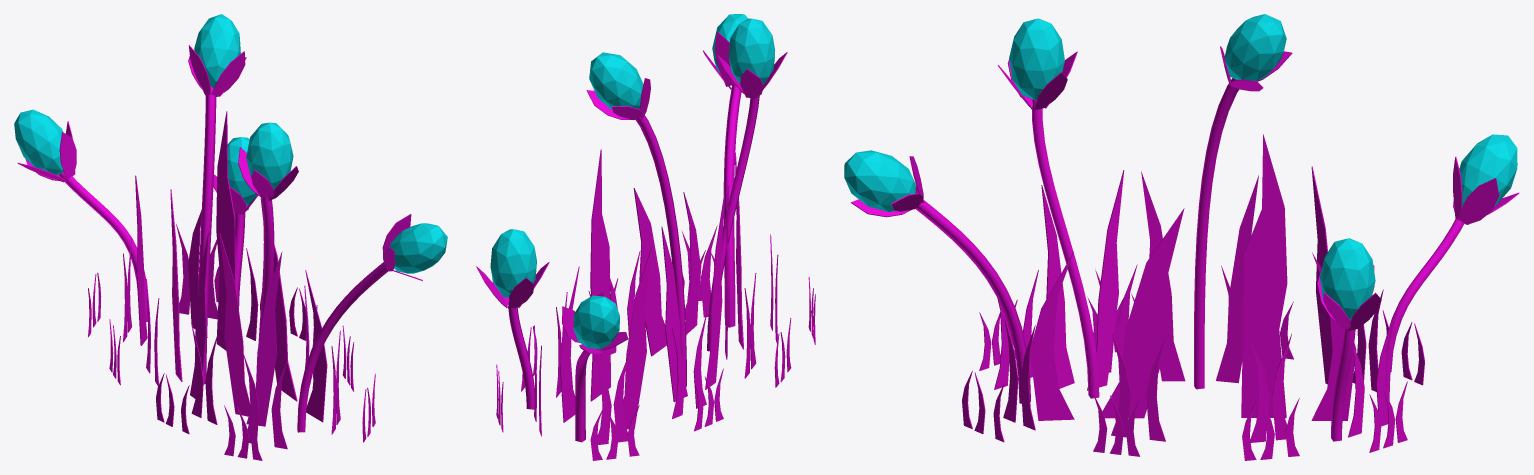
File: follaje0.fbx
The picture shows the model from 3 angles, left to right: view 1: azimuth 30°, elevation 25°; view 2: azimuth 150°, elevation 25°; view 3: azimuth 270°, elevation 25°; orthographic projection. The views are drawn at different scales.
Parts seen in each view (by area): view 1: Plano, Plano.005, Esfera geodésica.003, Curva Bezier.002, Plano.004, Esfera geodésica.001, Esfera geodésica.004, Esfera geodésica.002, Curva Bezier, Plano.001, Curva Bezier.003, Plano.003 (+17 smaller); view 2: Plano, Curva Bezier.002, Plano.008, Esfera geodésica.005, Esfera geodésica.002, Plano.001, Esfera geodésica.001, Curva Bezier, Esfera geodésica.003, Curva Bezier.001, Plano.007, Plano.006 (+17 smaller); view 3: Plano, Plano.001, Curva Bezier.002, Esfera geodésica.001, Curva Bezier.001, Plano.003, Esfera geodésica.005, Esfera geodésica.004, Esfera geodésica.002, Plano.005, Plano.007, Esfera geodésica.003 (+17 smaller).
Part boxes in pixels (x1,y1,x2,y2): Plano: (216,111,235,350); Plano.005: (219,233,250,416); Esfera geodésica.003: (14,109,63,174); Curva Bezier.002: (198,86,216,384); Plano.004: (246,251,282,426); Esfera geodésica.001: (246,122,293,190); Esfera geodésica.004: (389,223,447,273); Esfera geodésica.002: (194,14,240,88); Curva Bezier: (297,262,388,432); Plano.001: (260,198,297,401); Curva Bezier.003: (58,172,147,322); Plano.003: (305,270,327,422); Plano: (590,149,610,401); Curva Bezier.002: (635,108,686,386); Plano.008: (623,246,652,429); Esfera geodésica.005: (490,229,536,297); Esfera geodésica.002: (589,52,643,110); Plano.001: (633,188,666,356); Esfera geodésica.001: (729,18,774,84); Curva Bezier: (723,84,741,327); Esfera geodésica.003: (573,295,619,349); Curva Bezier.001: (707,96,759,351); Plano.007: (661,226,687,402); Plano.006: (705,195,724,389); Plano: (1241,134,1287,417); Plano.001: (1102,208,1184,418); Curva Bezier.002: (1194,78,1239,389); Esfera geodésica.001: (1009,18,1064,100); Curva Bezier.001: (1032,99,1099,398); Plano.003: (1030,251,1074,420); Esfera geodésica.005: (1320,238,1375,319); Esfera geodésica.004: (844,150,915,211); Esfera geodésica.002: (1224,14,1286,81); Plano.005: (1087,170,1124,390); Plano.007: (1216,175,1258,383); Esfera geodésica.003: (1459,134,1517,207).
Bounding box in the file's own units: 215 × 354 × 540.
